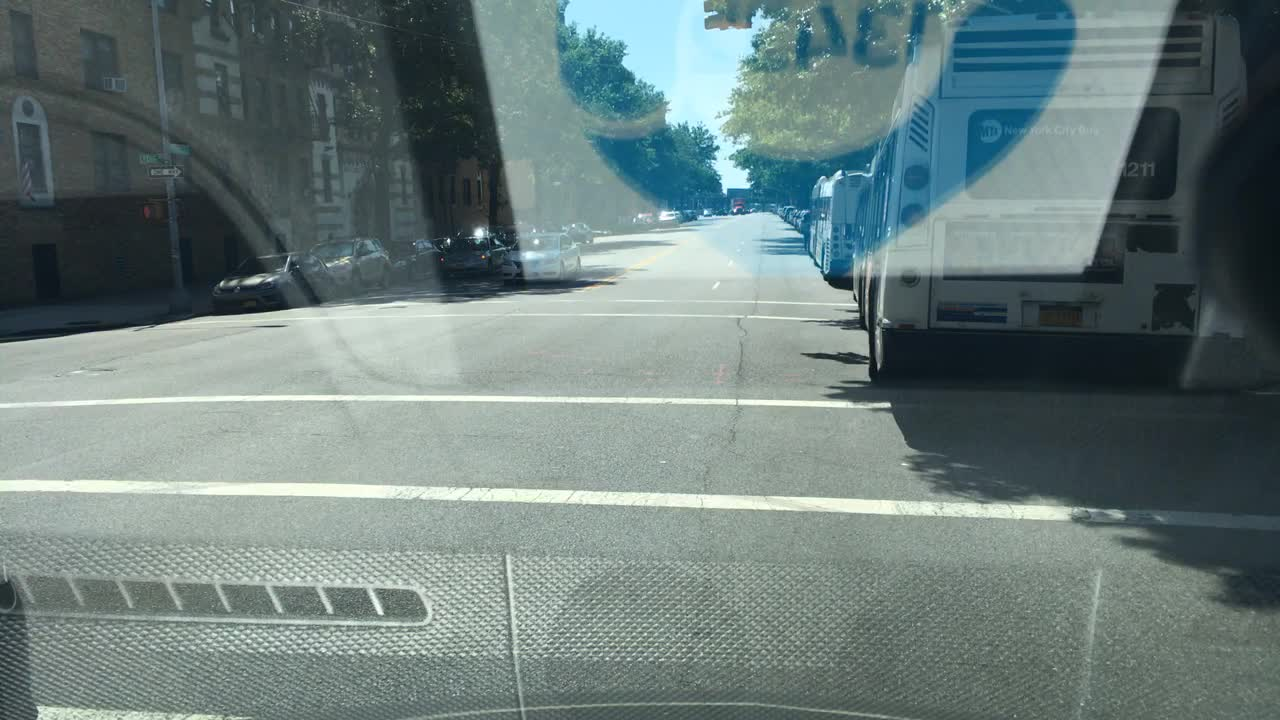bus: (846, 0, 1263, 390), (804, 167, 900, 285)
car: (209, 247, 337, 308), (305, 235, 397, 290), (500, 230, 586, 284), (437, 232, 516, 287), (387, 238, 445, 279), (563, 221, 597, 243), (495, 230, 521, 247), (799, 208, 813, 234), (636, 211, 658, 226), (616, 213, 636, 229), (657, 209, 676, 224), (536, 224, 563, 232), (744, 201, 758, 216), (791, 208, 802, 227), (673, 211, 686, 226), (783, 206, 794, 222), (689, 208, 702, 221), (765, 201, 778, 213), (700, 208, 718, 216), (721, 206, 734, 217), (776, 206, 787, 219), (712, 206, 726, 216), (679, 211, 692, 221)
traffic light: (700, 0, 726, 29), (724, 2, 752, 28), (138, 201, 164, 222)
traffic sign: (146, 164, 185, 179), (137, 151, 164, 163), (726, 187, 750, 200), (167, 142, 190, 155)
truck: (734, 198, 744, 215)
